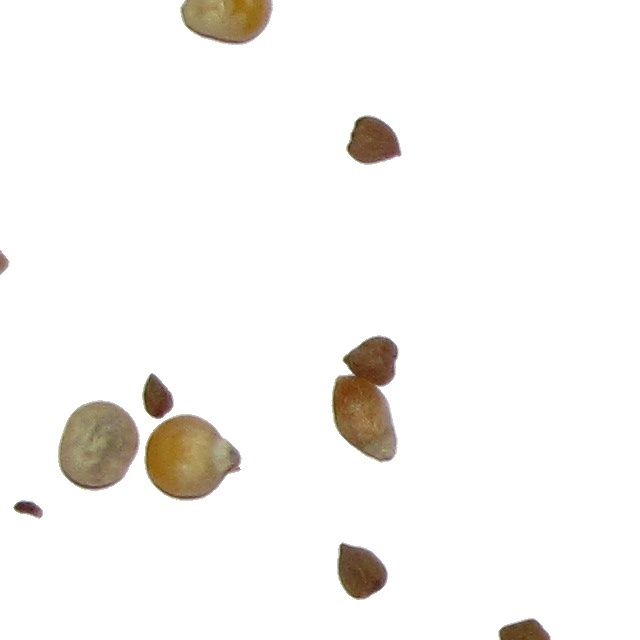buckwheat: (336, 541, 389, 601), (345, 114, 403, 166), (141, 372, 175, 420), (12, 499, 44, 520)
mais: (143, 413, 243, 502), (57, 399, 141, 492), (330, 378, 390, 464)
